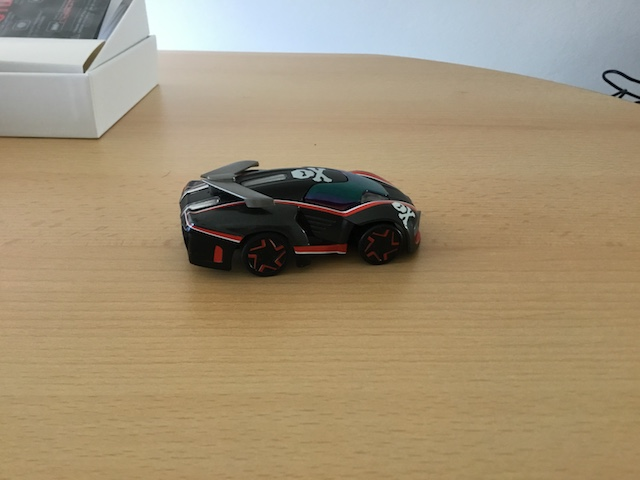car-red: (173, 152, 427, 281)
